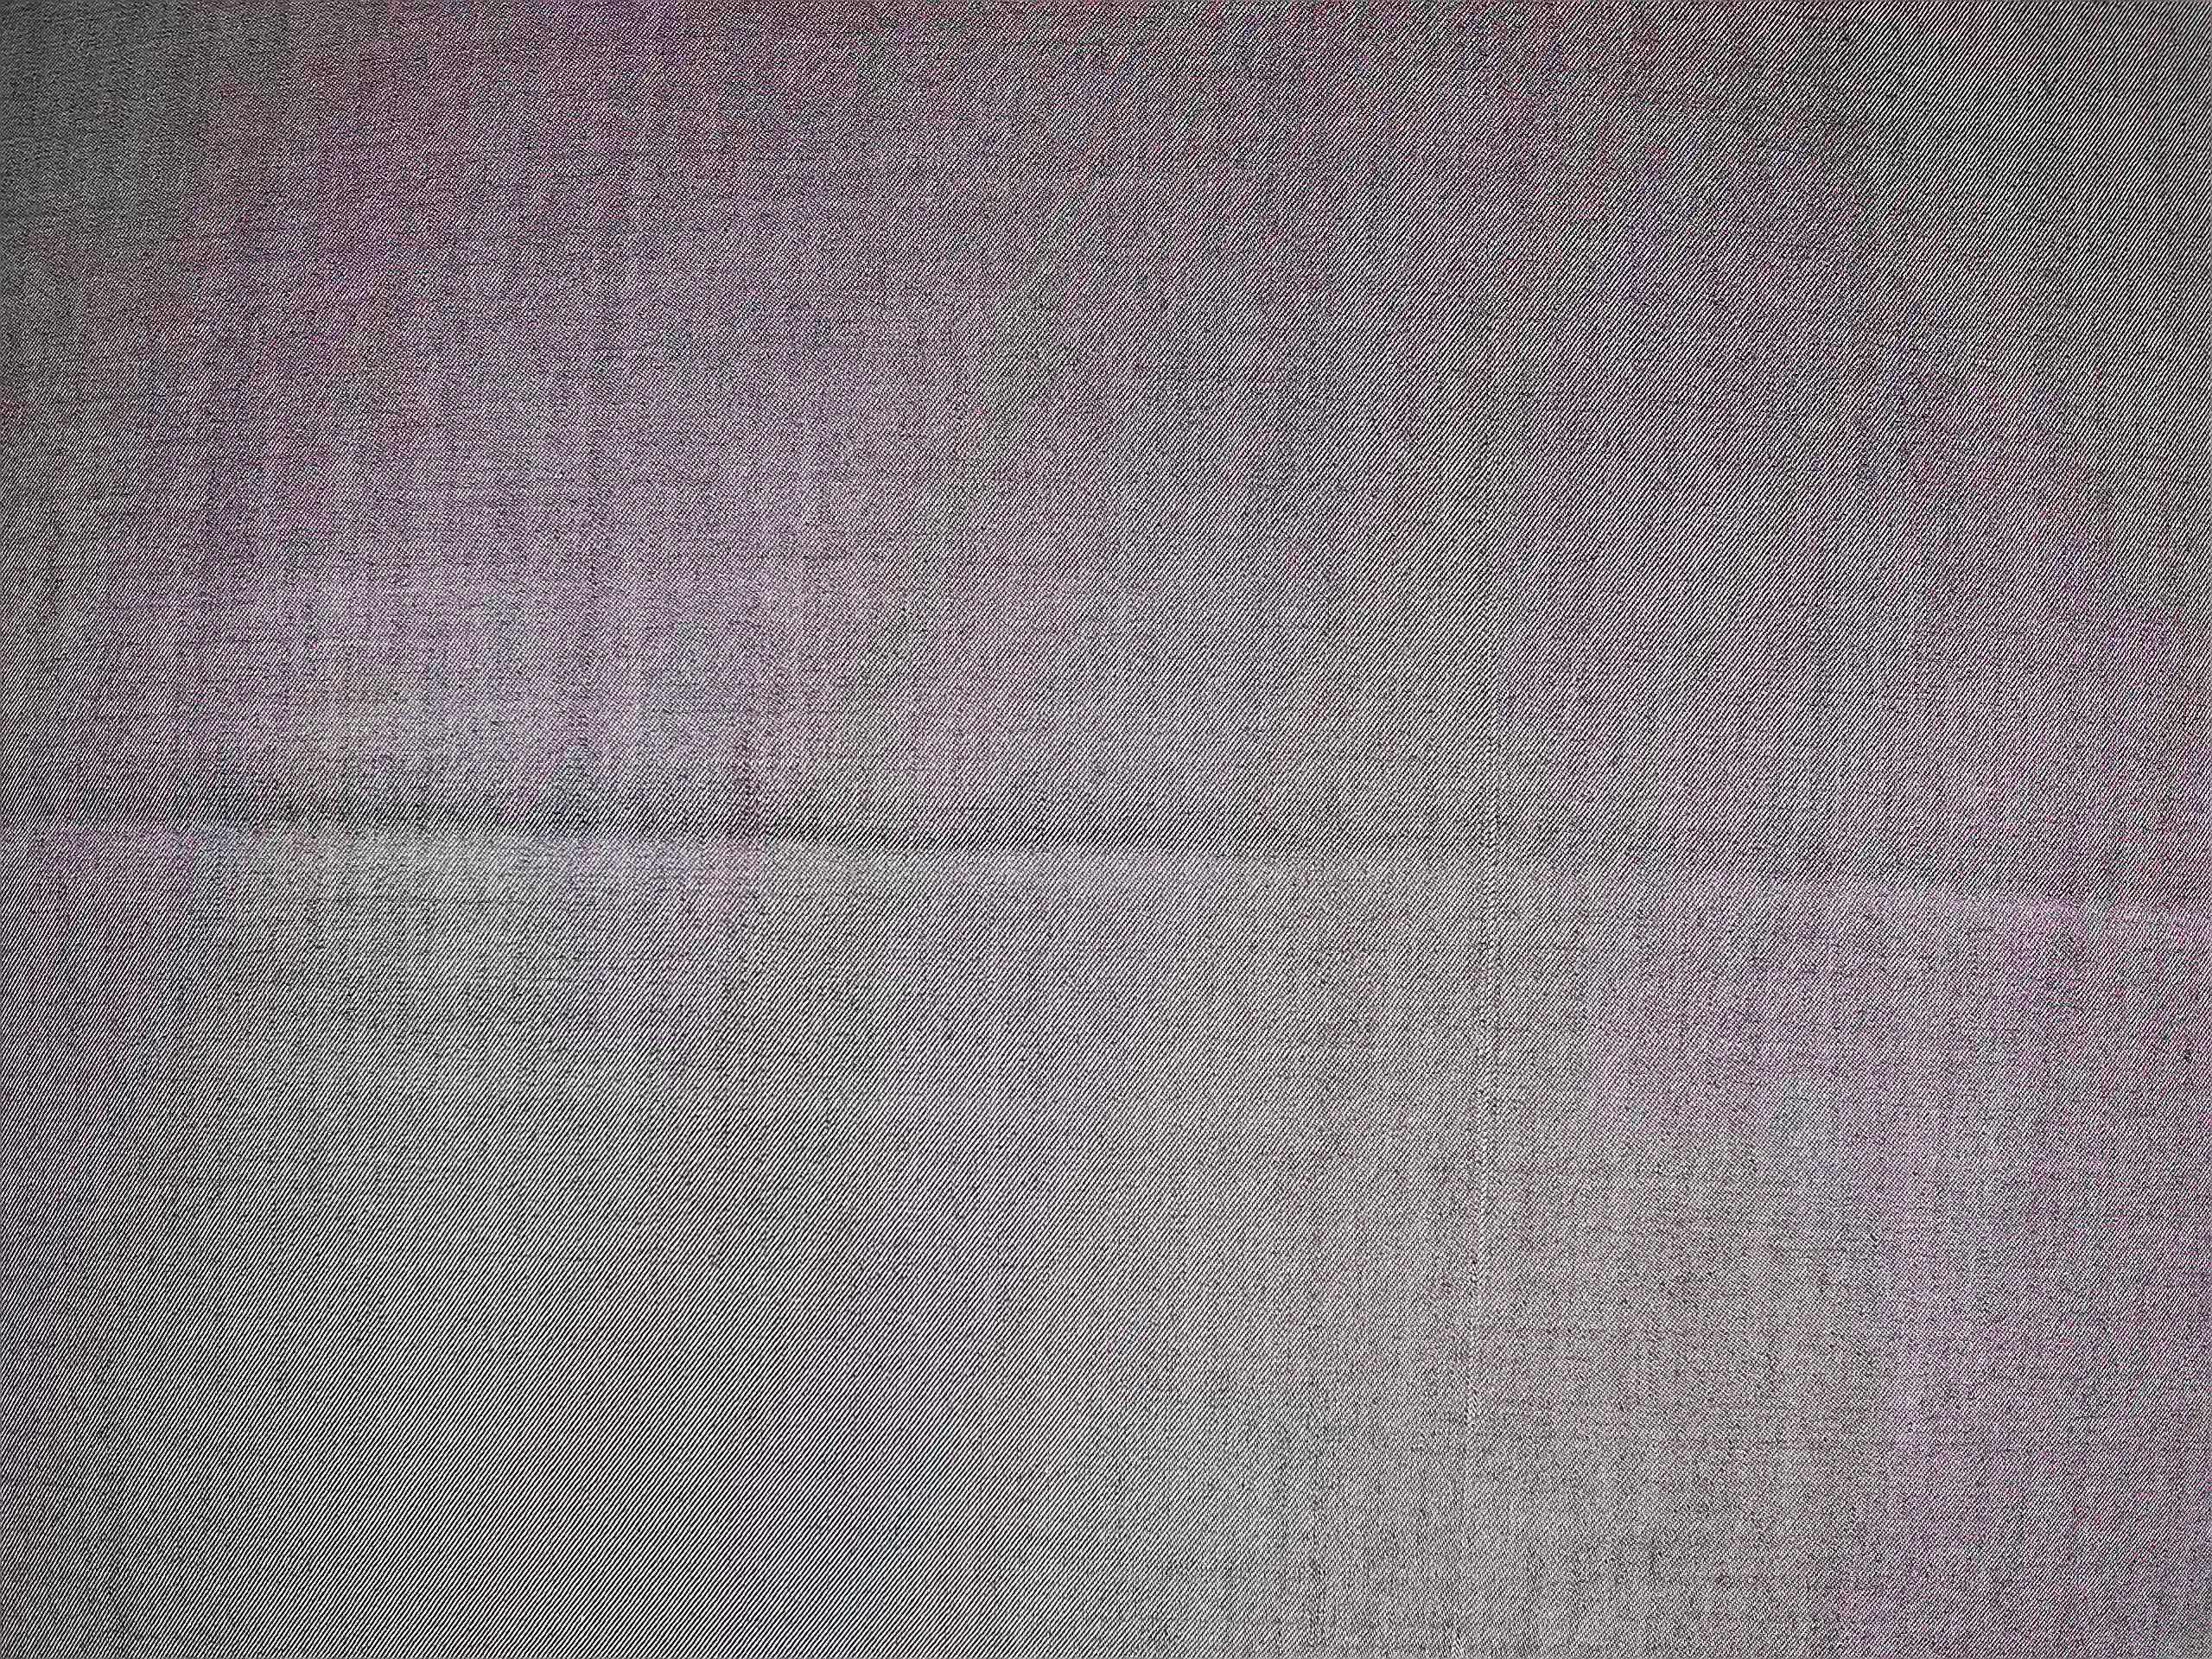hanging-warp: (1447, 678, 1510, 1495)
